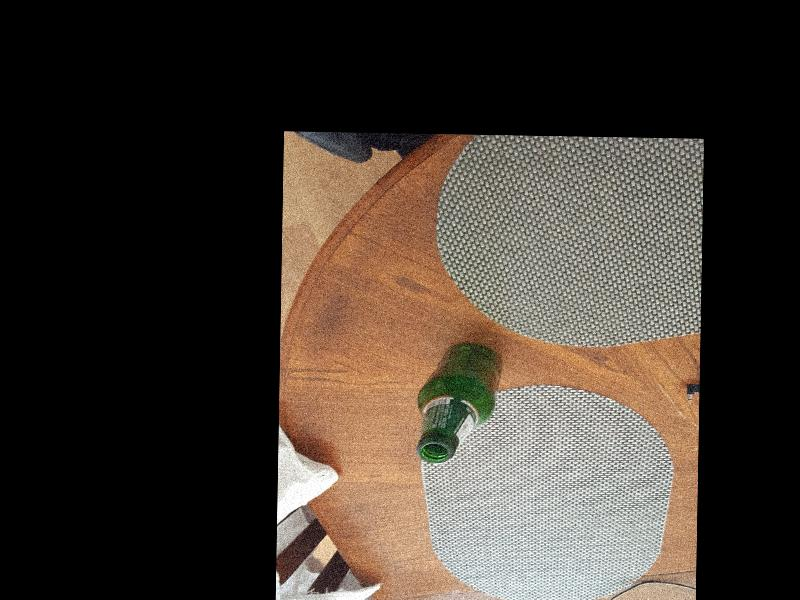Beer: (416, 340, 500, 464)
